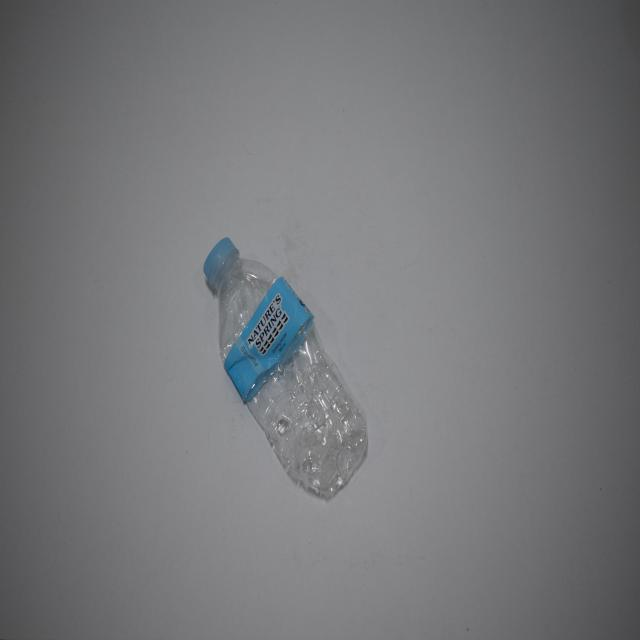bottle: (191, 232, 383, 529)
